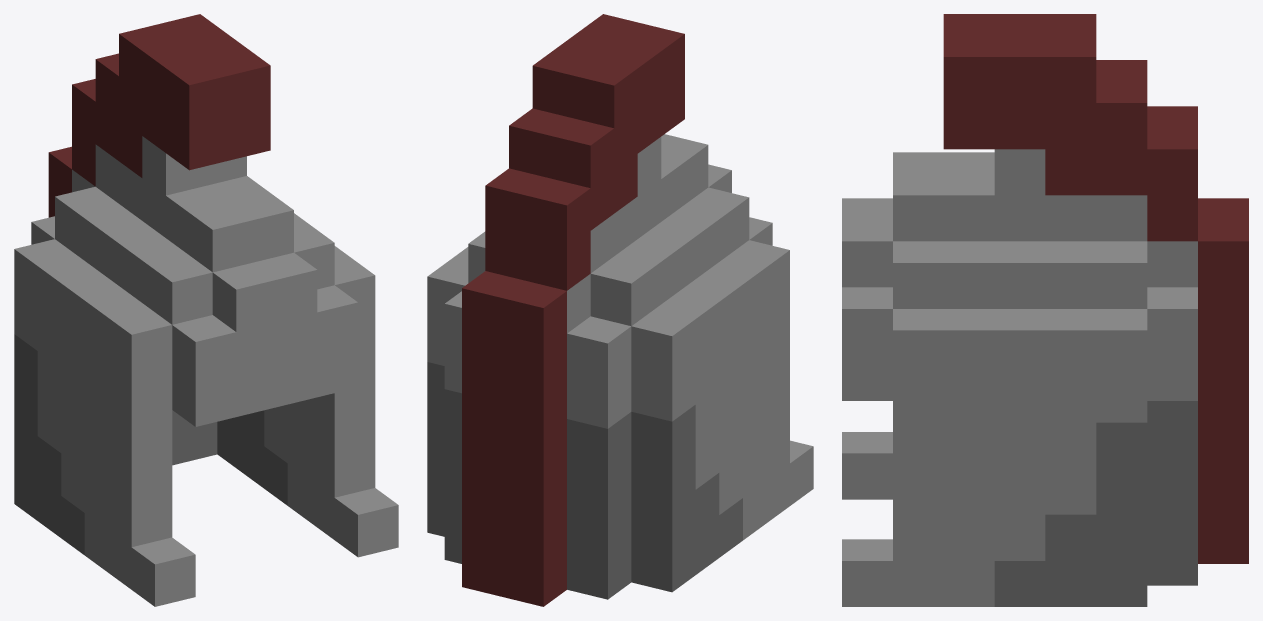
File: char-98-helm_med_2d_du.obj
3 views of the same model, side by side, from view 1: azimuth 30°, elevation 25°; view 2: azimuth 150°, elevation 25°; view 3: azimuth 270°, elevation 25° (orthographic). The views are drawn at different scales.
Parts seen in each view (by area): view 1: helm_med_2d_du; view 2: helm_med_2d_du; view 3: helm_med_2d_du.
Part boxes in pixels (bbox=[...]): helm_med_2d_du: bbox=[14, 14, 398, 606]; helm_med_2d_du: bbox=[427, 14, 813, 606]; helm_med_2d_du: bbox=[842, 14, 1248, 606].
Size of the model in its own units: 0.6 by 1.1 by 0.8.
Materials: 1 (1 with a texture image).
